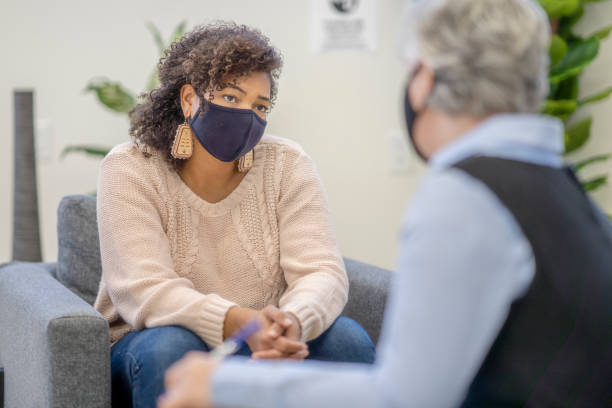with mask: (177, 19, 277, 165), (390, 20, 490, 166)
